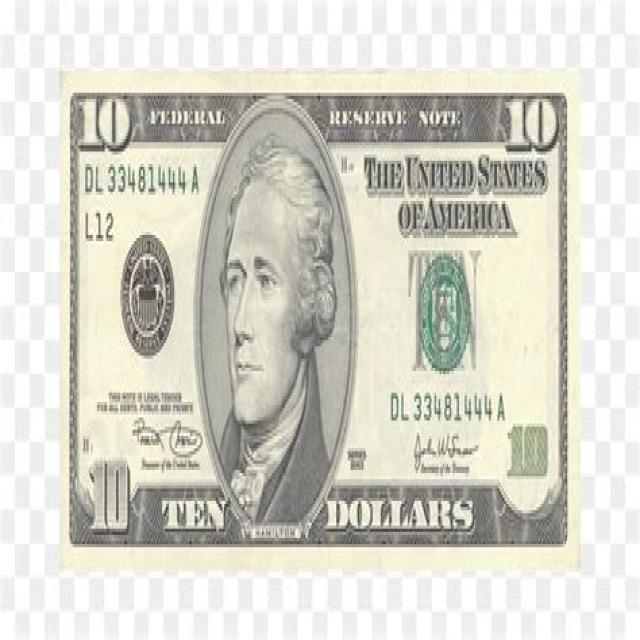Ten: (61, 67, 580, 569)
